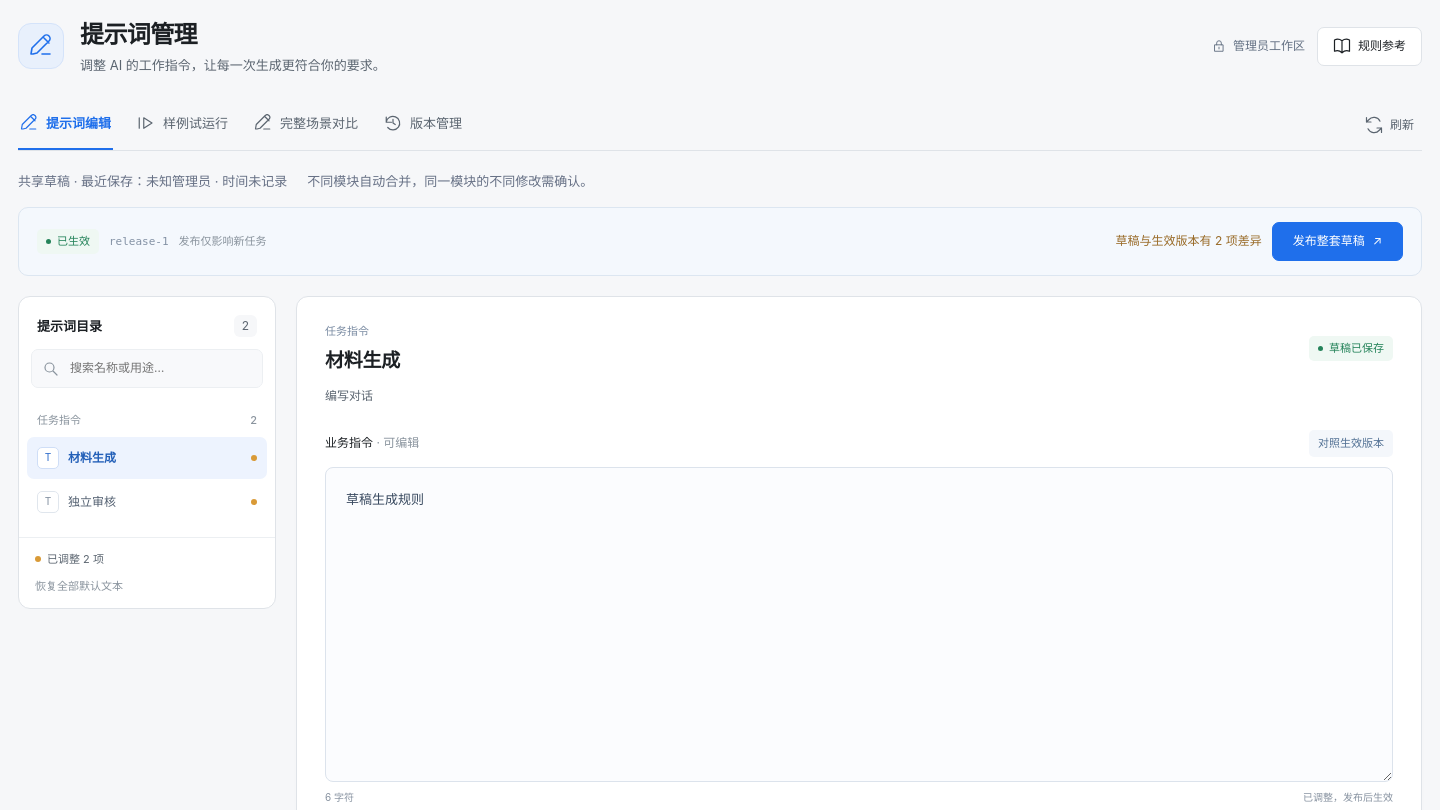
Test case: administrator prompt manager › publishes using both tokens and rolls back with the updated active token
expect the text box named "草稿业务文本" is shown: met, box [325, 467, 1393, 782]
Click the button "发布整套草稿 ↗": x=1337, y=241 [1272, 222, 1403, 261]
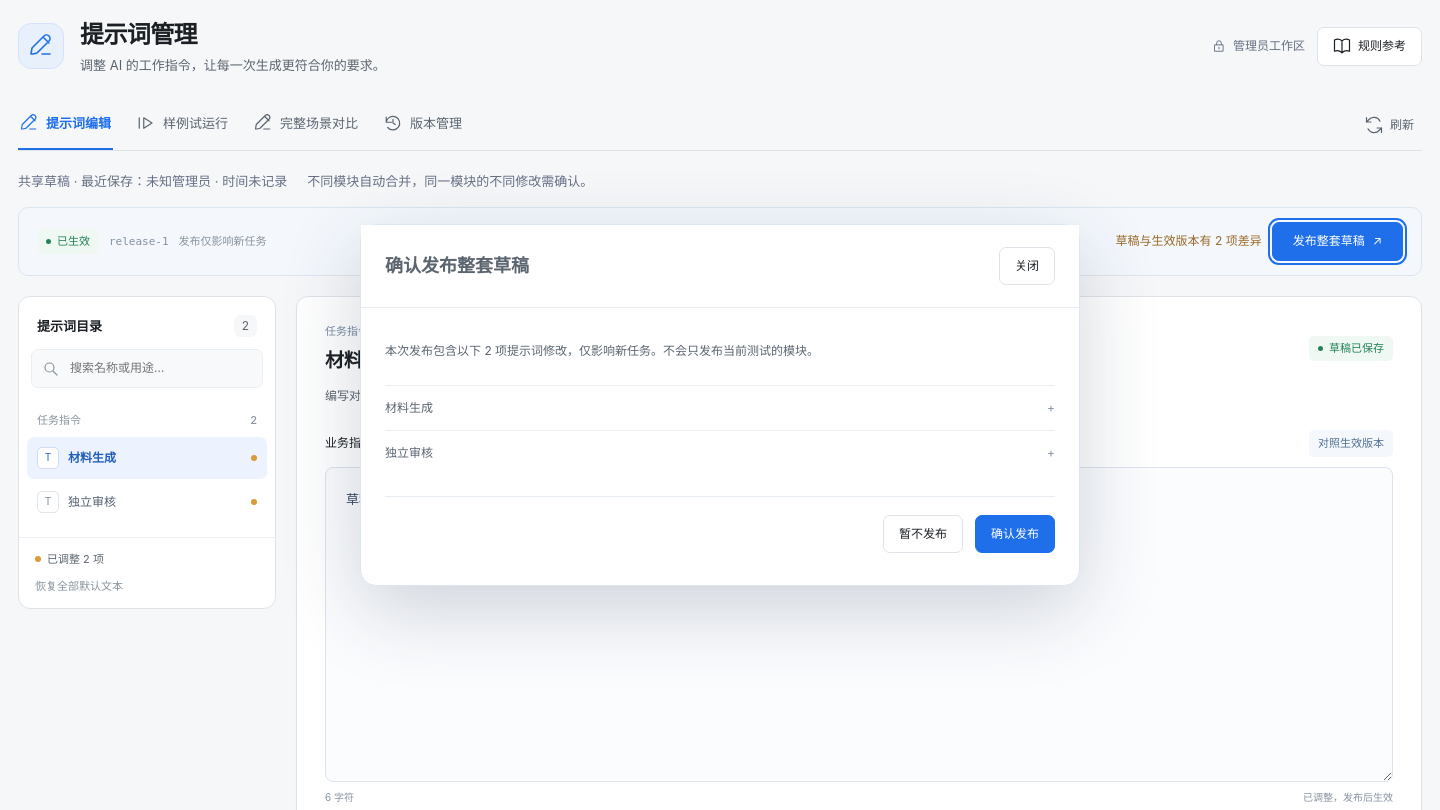
Click the button "确认发布": x=1015, y=534 [975, 515, 1055, 554]
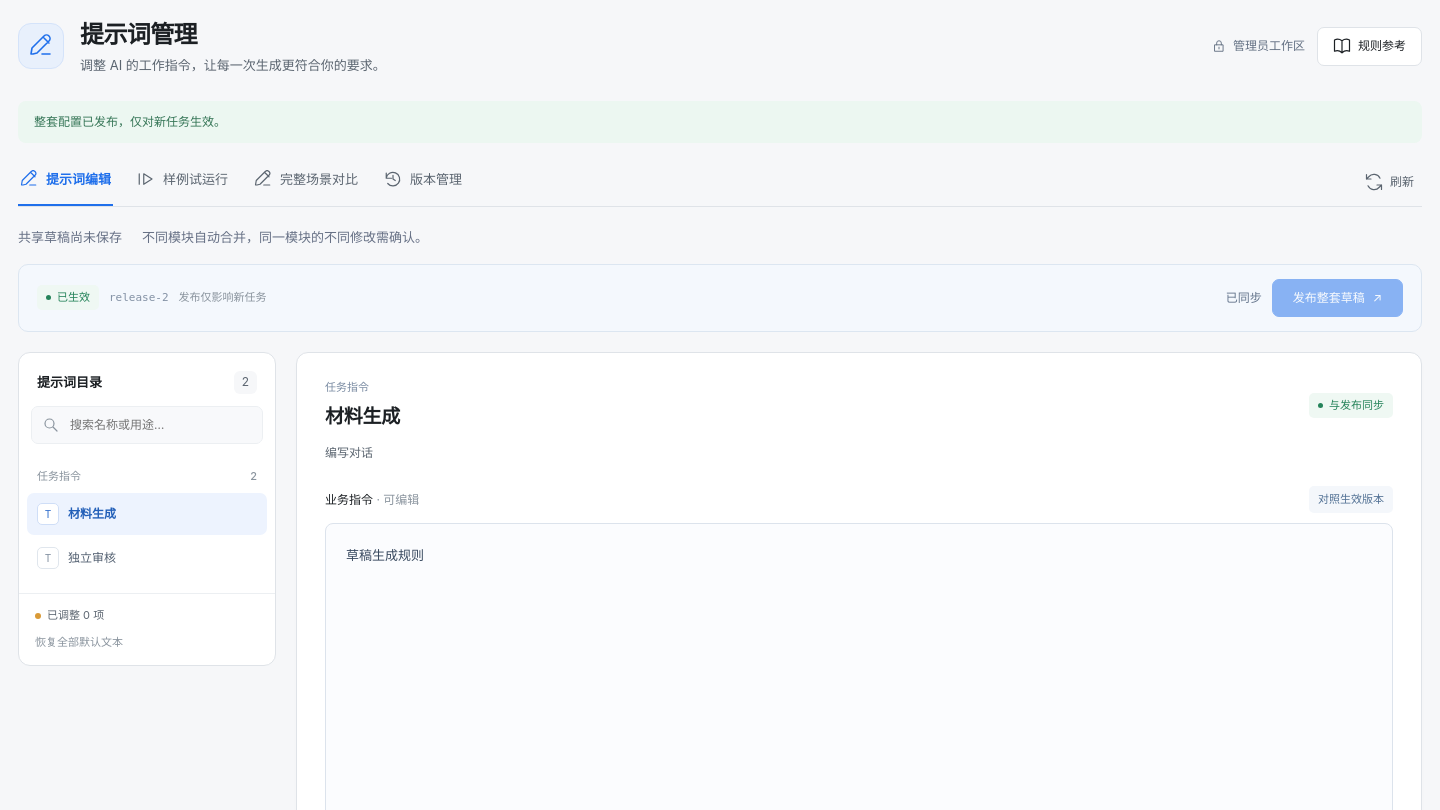
expect the text "整套配置已发布，仅对新任务生效。" is shown: met, box [18, 101, 1422, 143]
Click the button "版本管理": x=423, y=182 [382, 157, 464, 206]
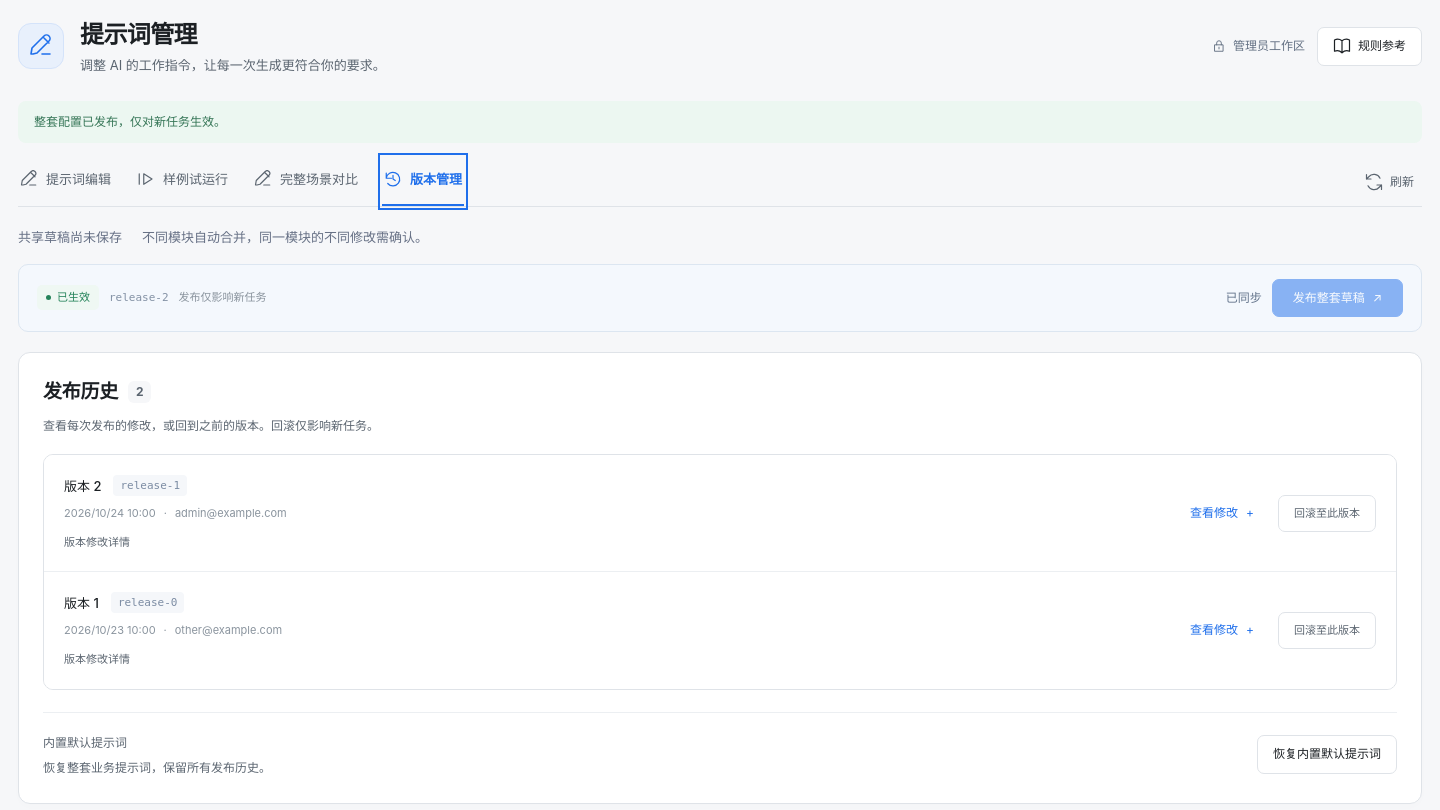
Click the button with aria-label "回滚至 release-0": x=1327, y=630 [1278, 612, 1376, 649]
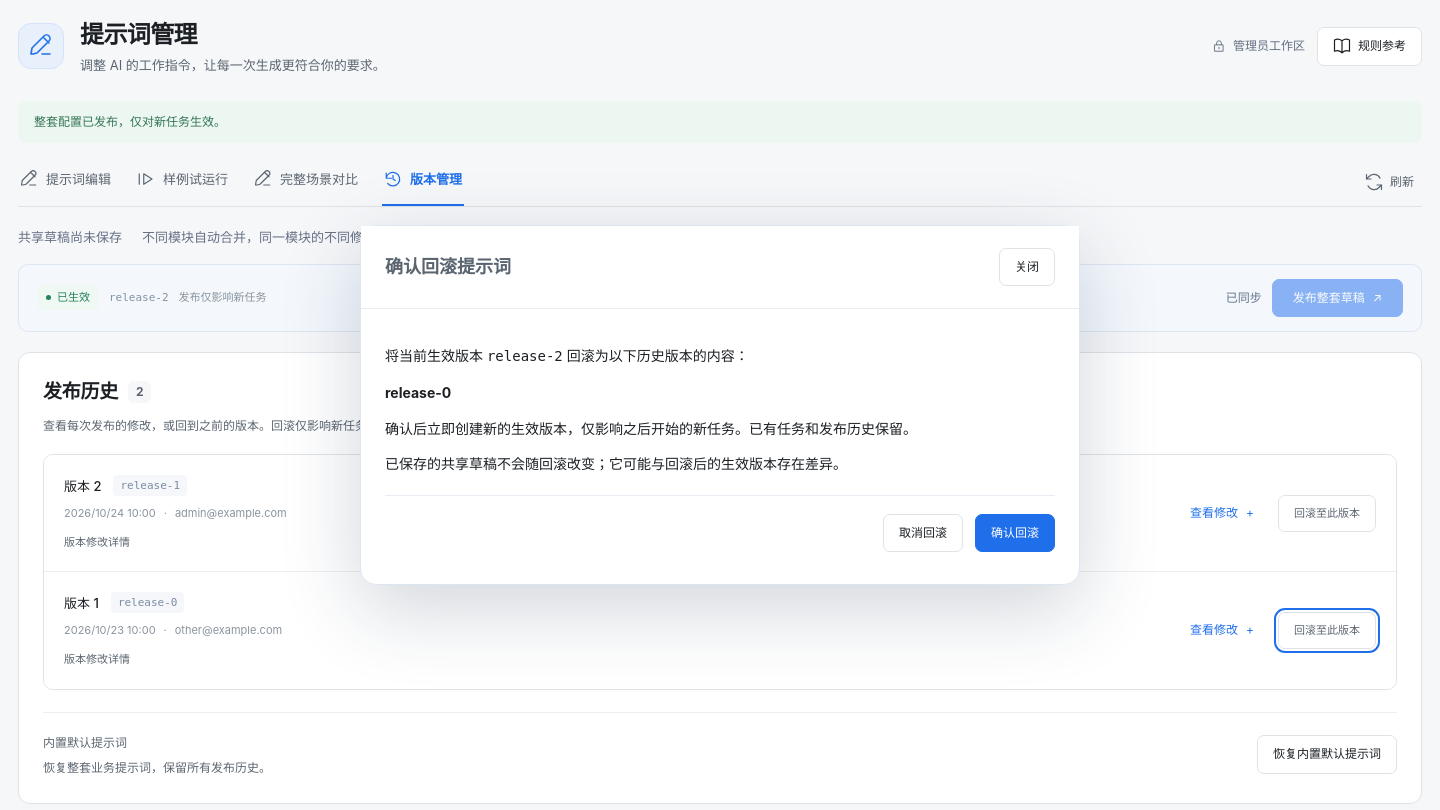
Click the button "确认回滚": x=1015, y=533 [975, 514, 1055, 552]
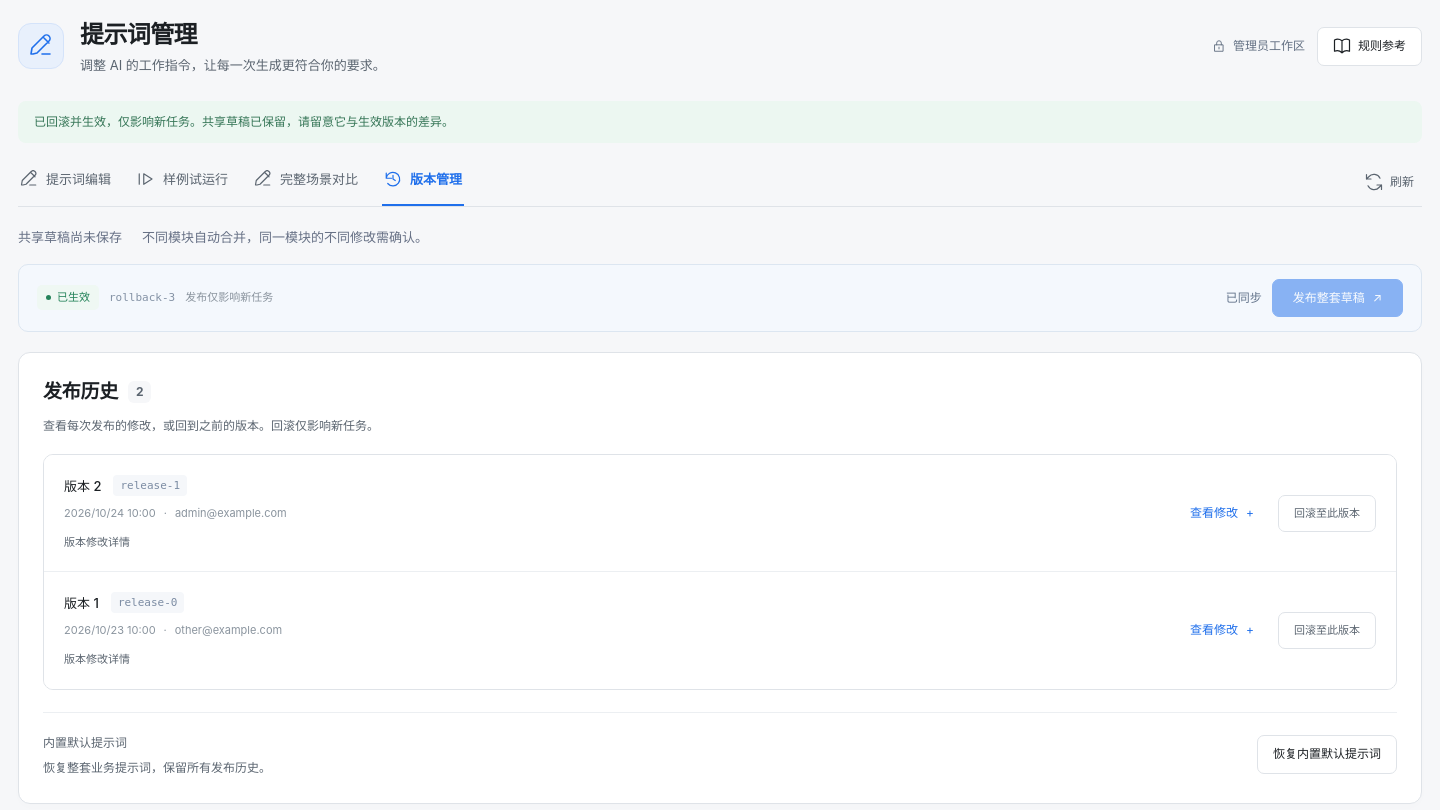
expect the text titled "rollback-3" is shown: met, box [109, 289, 175, 306]
